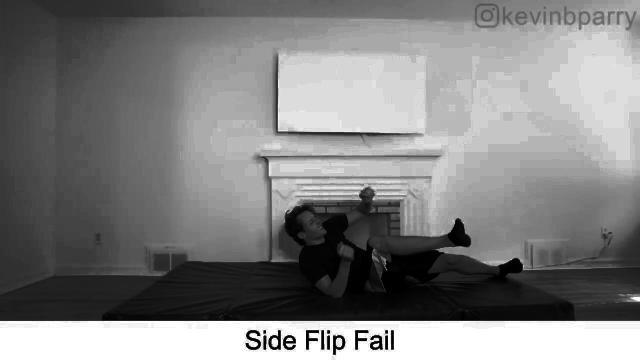jatuh: (276, 176, 548, 306)
